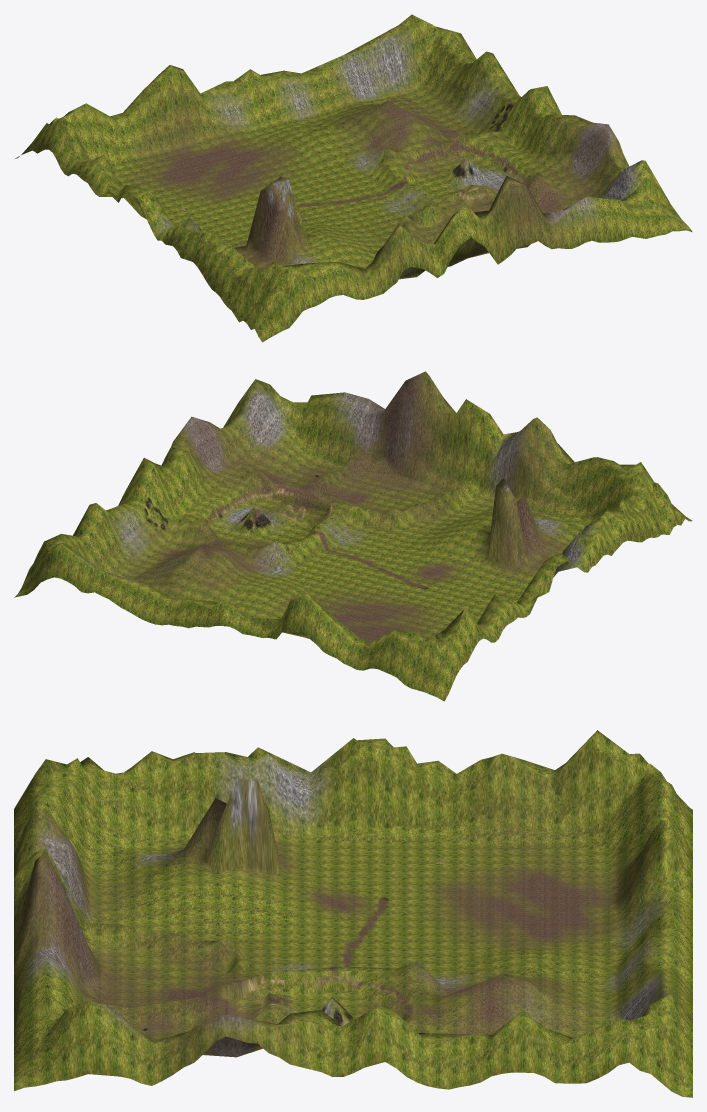
3 views of the same model, one above another, from view 1: azimuth 30°, elevation 25°; view 2: azimuth 150°, elevation 25°; view 3: azimuth 270°, elevation 25° (orthographic). The views are drawn at different scales.
Visible parts, largest first — view 1: Mesh; view 2: Mesh; view 3: Mesh.
Part boxes in pixels (x1,y1,x2,y2): Mesh: (15,14,692,342); Mesh: (14,371,692,701); Mesh: (14,730,692,1097).
Bounding box in the file's own units: 200 × 42.61 × 200.
Materials: 1 (1 with a texture image).
